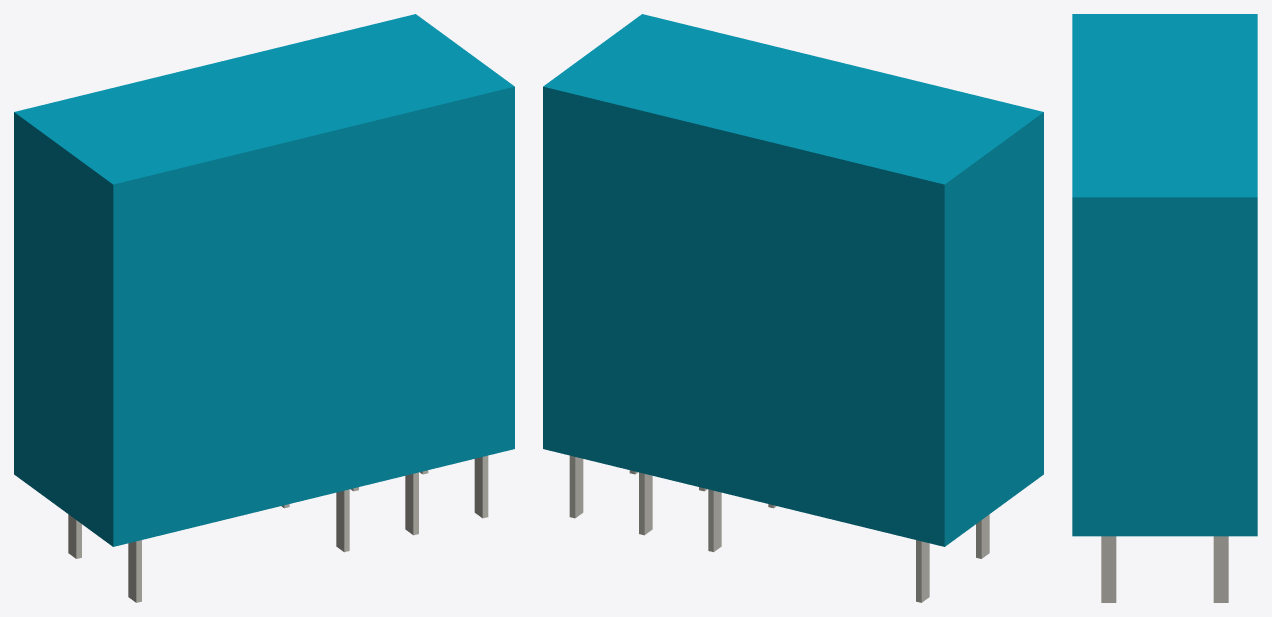
Rendered from rele_dpdt.glb.
The picture shows the model from 3 angles, left to right: view 1: azimuth 30°, elevation 25°; view 2: azimuth 150°, elevation 25°; view 3: azimuth 270°, elevation 25°; orthographic projection. The views are drawn at different scales.
Parts seen in each view (by area): view 1: U1; view 2: U1; view 3: U1.
Part boxes in pixels (x1=…): U1: x1=14, y1=14, x2=514, y2=602; U1: x1=543, y1=14, x2=1043, y2=602; U1: x1=1072, y1=14, x2=1257, y2=602.
Bounding box in the file's own units: 0.029 × 0.0303 × 0.0124.
